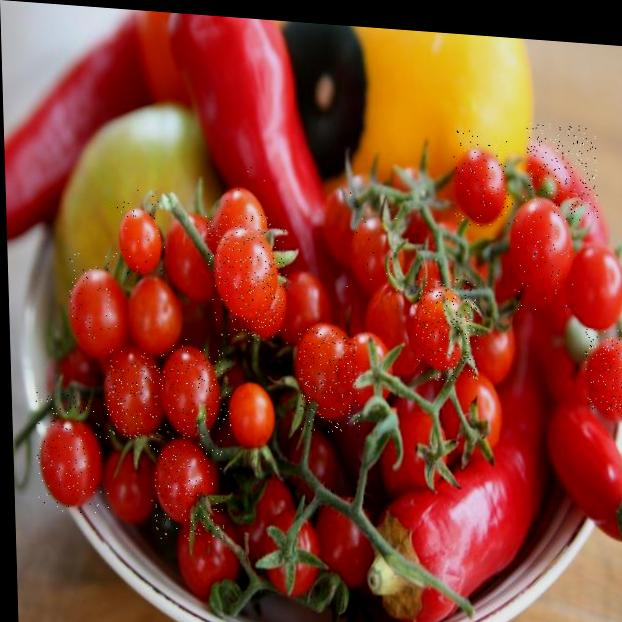Tomato: (206, 212, 290, 345), (149, 421, 226, 544), (35, 392, 111, 516), (205, 160, 276, 269), (512, 194, 575, 315), (526, 122, 598, 222), (414, 276, 480, 384), (298, 326, 360, 436), (166, 337, 234, 437), (104, 349, 167, 442), (453, 129, 510, 228), (342, 192, 399, 291), (113, 181, 167, 277), (64, 249, 117, 341), (584, 328, 622, 419)
